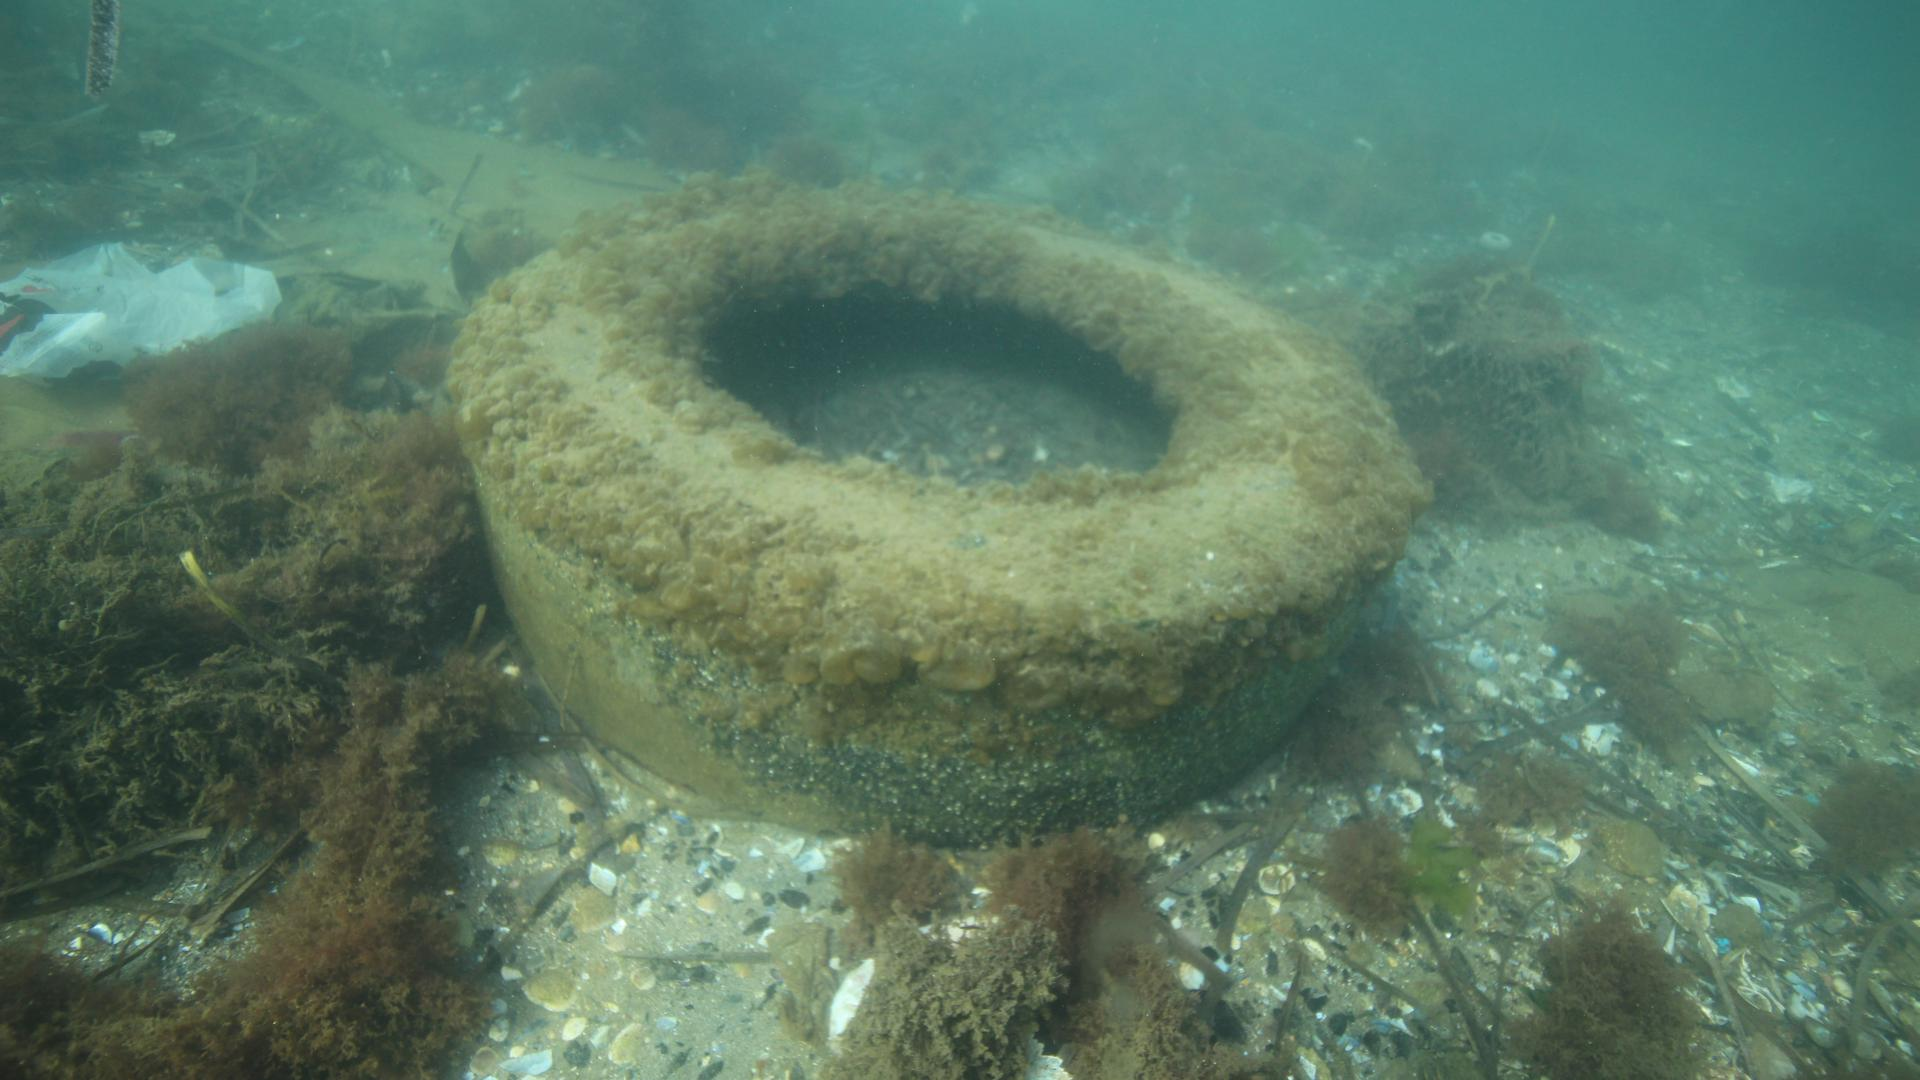tire: (458, 187, 1414, 840)
